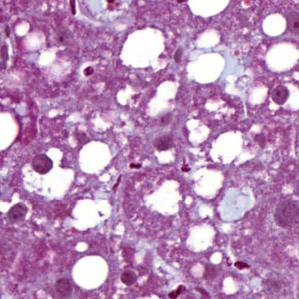steatosis: (67, 253, 112, 293), (184, 52, 223, 84)
